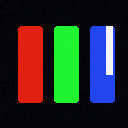4 line_v: (106, 26, 112, 74)
